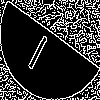I: (25, 25, 55, 72)
